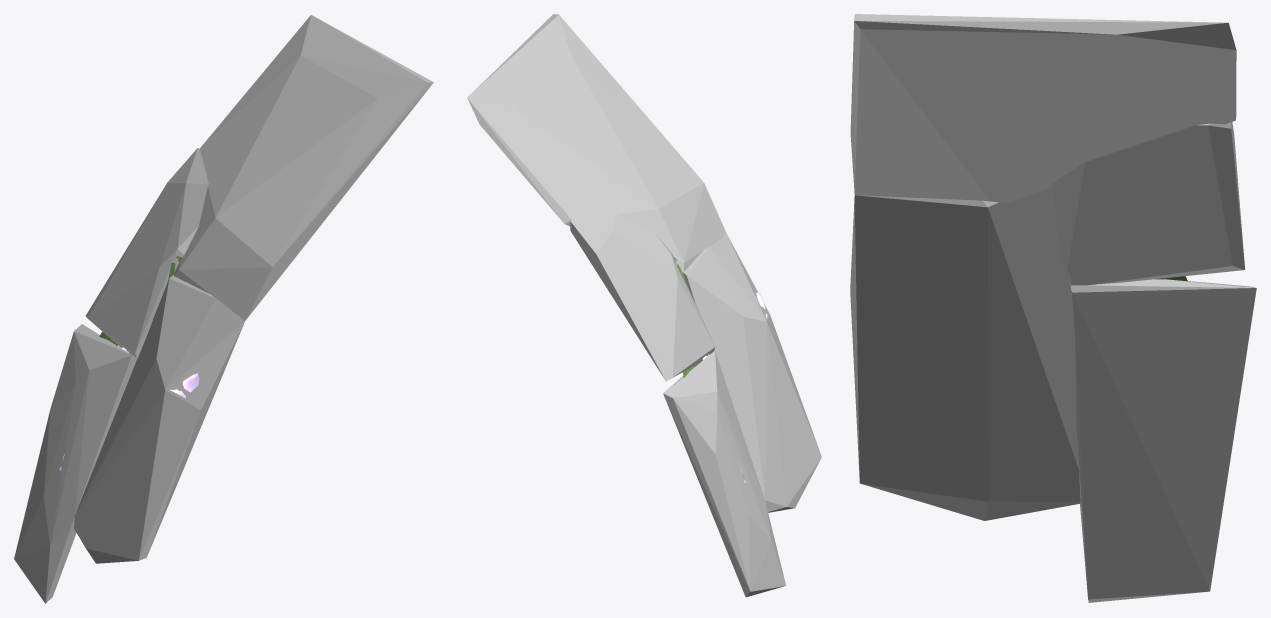
The model's file is SM_Env_Vines_Preset_Roof_Convex_01.fbx.
3 renders of one model, left to right at view 1: azimuth 30°, elevation 25°; view 2: azimuth 150°, elevation 25°; view 3: azimuth 270°, elevation 25°, orthographic. The views are drawn at different scales.
Visible parts, largest first — view 1: SM_Env_Vines_Preset_Roof_Convex_01_ConvexHulls; view 2: SM_Env_Vines_Preset_Roof_Convex_01_ConvexHulls; view 3: SM_Env_Vines_Preset_Roof_Convex_01_ConvexHulls.
Boxes of the visible parts, bbox=[...] form: SM_Env_Vines_Preset_Roof_Convex_01_ConvexHulls: bbox=[14, 15, 433, 603]; SM_Env_Vines_Preset_Roof_Convex_01_ConvexHulls: bbox=[467, 14, 821, 597]; SM_Env_Vines_Preset_Roof_Convex_01_ConvexHulls: bbox=[850, 14, 1256, 602].
Size of the model in its own units: 179 by 114 by 264.
3 materials, 2 textured.
